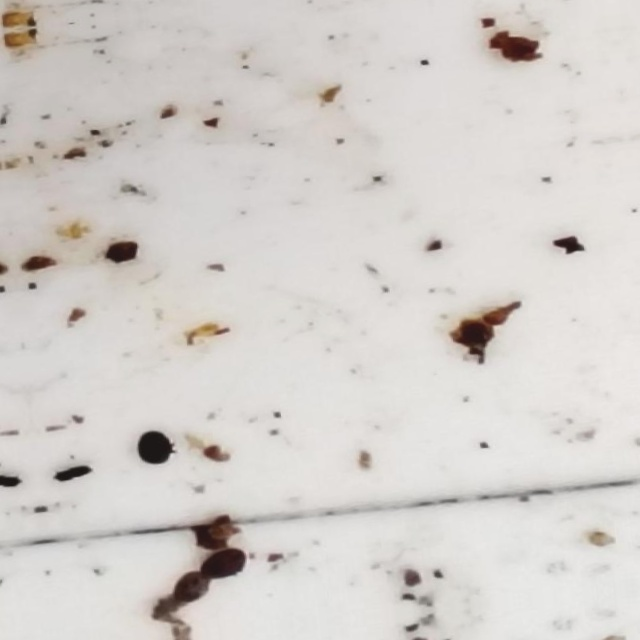varroa: (198, 546, 249, 580), (134, 429, 176, 469), (170, 570, 212, 606)
